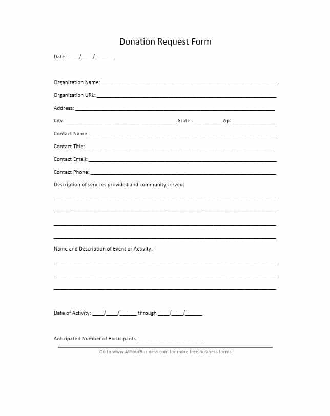textline: (52, 189, 278, 202), (51, 268, 279, 280), (52, 254, 279, 266), (52, 230, 278, 241), (85, 139, 277, 151), (50, 282, 279, 292), (53, 205, 278, 215), (89, 127, 277, 138), (73, 102, 278, 112), (53, 218, 278, 227), (99, 76, 276, 87), (87, 153, 278, 163), (90, 167, 279, 177), (95, 90, 278, 100), (64, 114, 177, 125), (138, 332, 203, 343), (66, 50, 116, 61), (91, 306, 138, 317), (231, 114, 277, 125), (157, 306, 203, 317), (191, 114, 222, 125), (118, 308, 136, 317), (185, 308, 202, 317), (93, 53, 112, 61), (170, 307, 184, 317), (79, 53, 93, 61), (91, 308, 103, 317), (105, 308, 117, 317), (158, 308, 170, 317), (65, 53, 78, 61)
